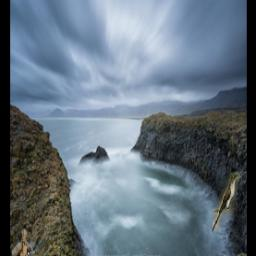Cuckoo: (213, 172, 240, 232)
Sparrow: (11, 230, 34, 256)
